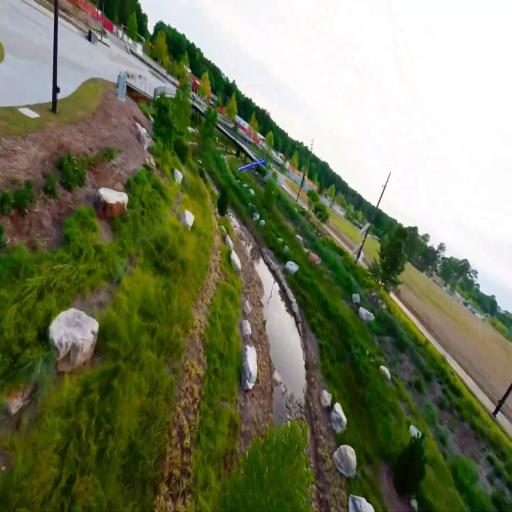uav: (236, 152, 270, 181)
